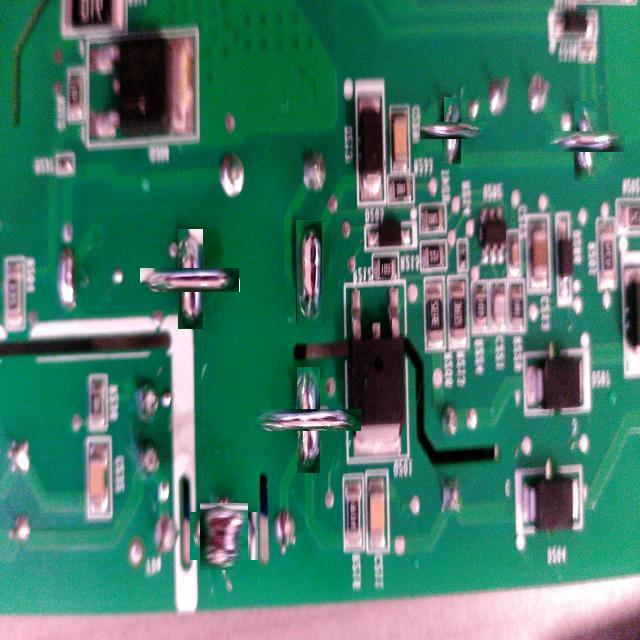Short_circuit: (276, 388, 341, 452), (159, 248, 222, 311), (196, 507, 253, 565), (296, 220, 322, 325), (560, 116, 611, 167), (432, 110, 474, 152)
